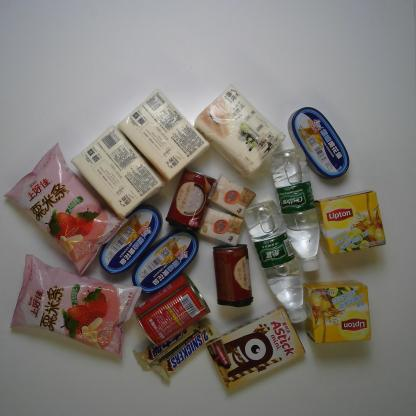Canned Food: (133, 273, 210, 347), (132, 227, 199, 295), (99, 204, 163, 275), (288, 107, 349, 179), (166, 168, 217, 233), (213, 244, 254, 307)
Chocolate: (152, 317, 222, 382), (132, 316, 201, 370)
Dessert: (205, 305, 306, 390)
Drink: (243, 200, 308, 325), (271, 147, 320, 272)
Instant Drink: (310, 189, 386, 255), (301, 280, 372, 342)
Puffed Food: (3, 143, 129, 278), (10, 254, 142, 361)
Tissue: (70, 125, 165, 219), (191, 84, 285, 178), (117, 89, 211, 182), (208, 174, 257, 218), (198, 207, 244, 246)
